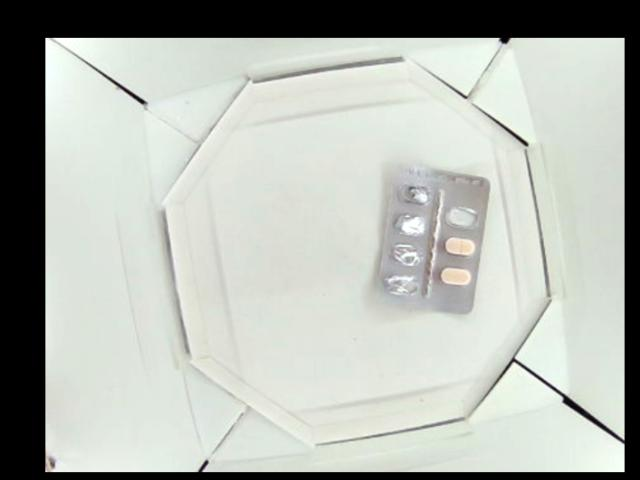Medicine: (377, 163, 489, 315)
